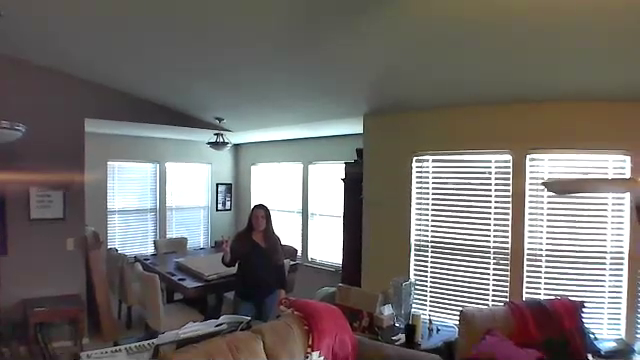peace: (211, 230, 241, 256)
